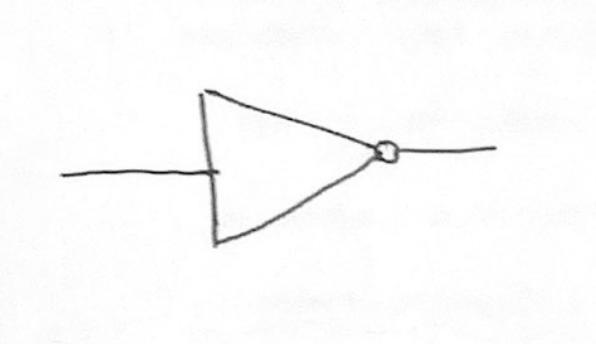NOT: (181, 70, 433, 254)
